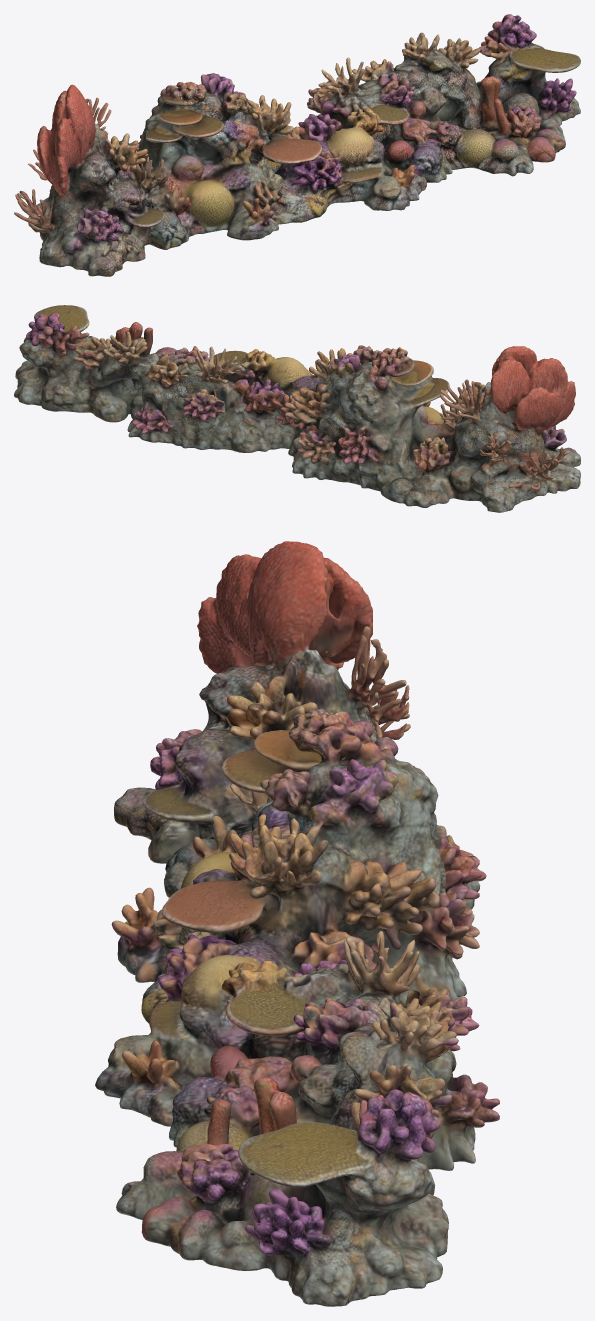
Rendered from corals2.glb.
The picture shows the model from 3 angles, top to bottom: view 1: azimuth 30°, elevation 25°; view 2: azimuth 150°, elevation 25°; view 3: azimuth 270°, elevation 25°; orthographic projection. The views are drawn at different scales.
Size of the model in its own units: 1.9 by 0.4853 by 0.6206.
Materials: 1 (1 with a texture image).
